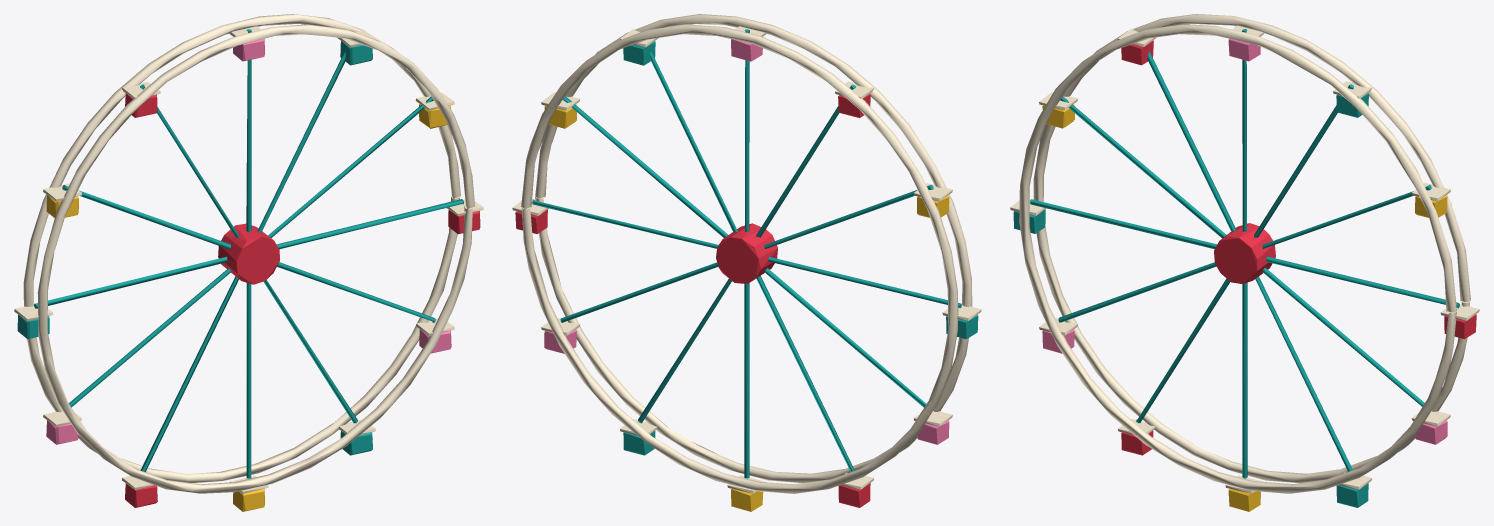
The model's file is big_wheel.glb.
3 views of the same model, side by side, from view 1: azimuth 30°, elevation 25°; view 2: azimuth 150°, elevation 25°; view 3: azimuth 330°, elevation 25° (orthographic).
Visible parts, largest first — view 1: big_wheel; view 2: big_wheel; view 3: big_wheel.
Boxes of the visible parts, bbox=[...] form: big_wheel: bbox=[14, 14, 483, 511]; big_wheel: bbox=[512, 14, 981, 511]; big_wheel: bbox=[1010, 14, 1479, 511].
Size of the model in its own units: 59.81 by 60.04 by 4.42.
